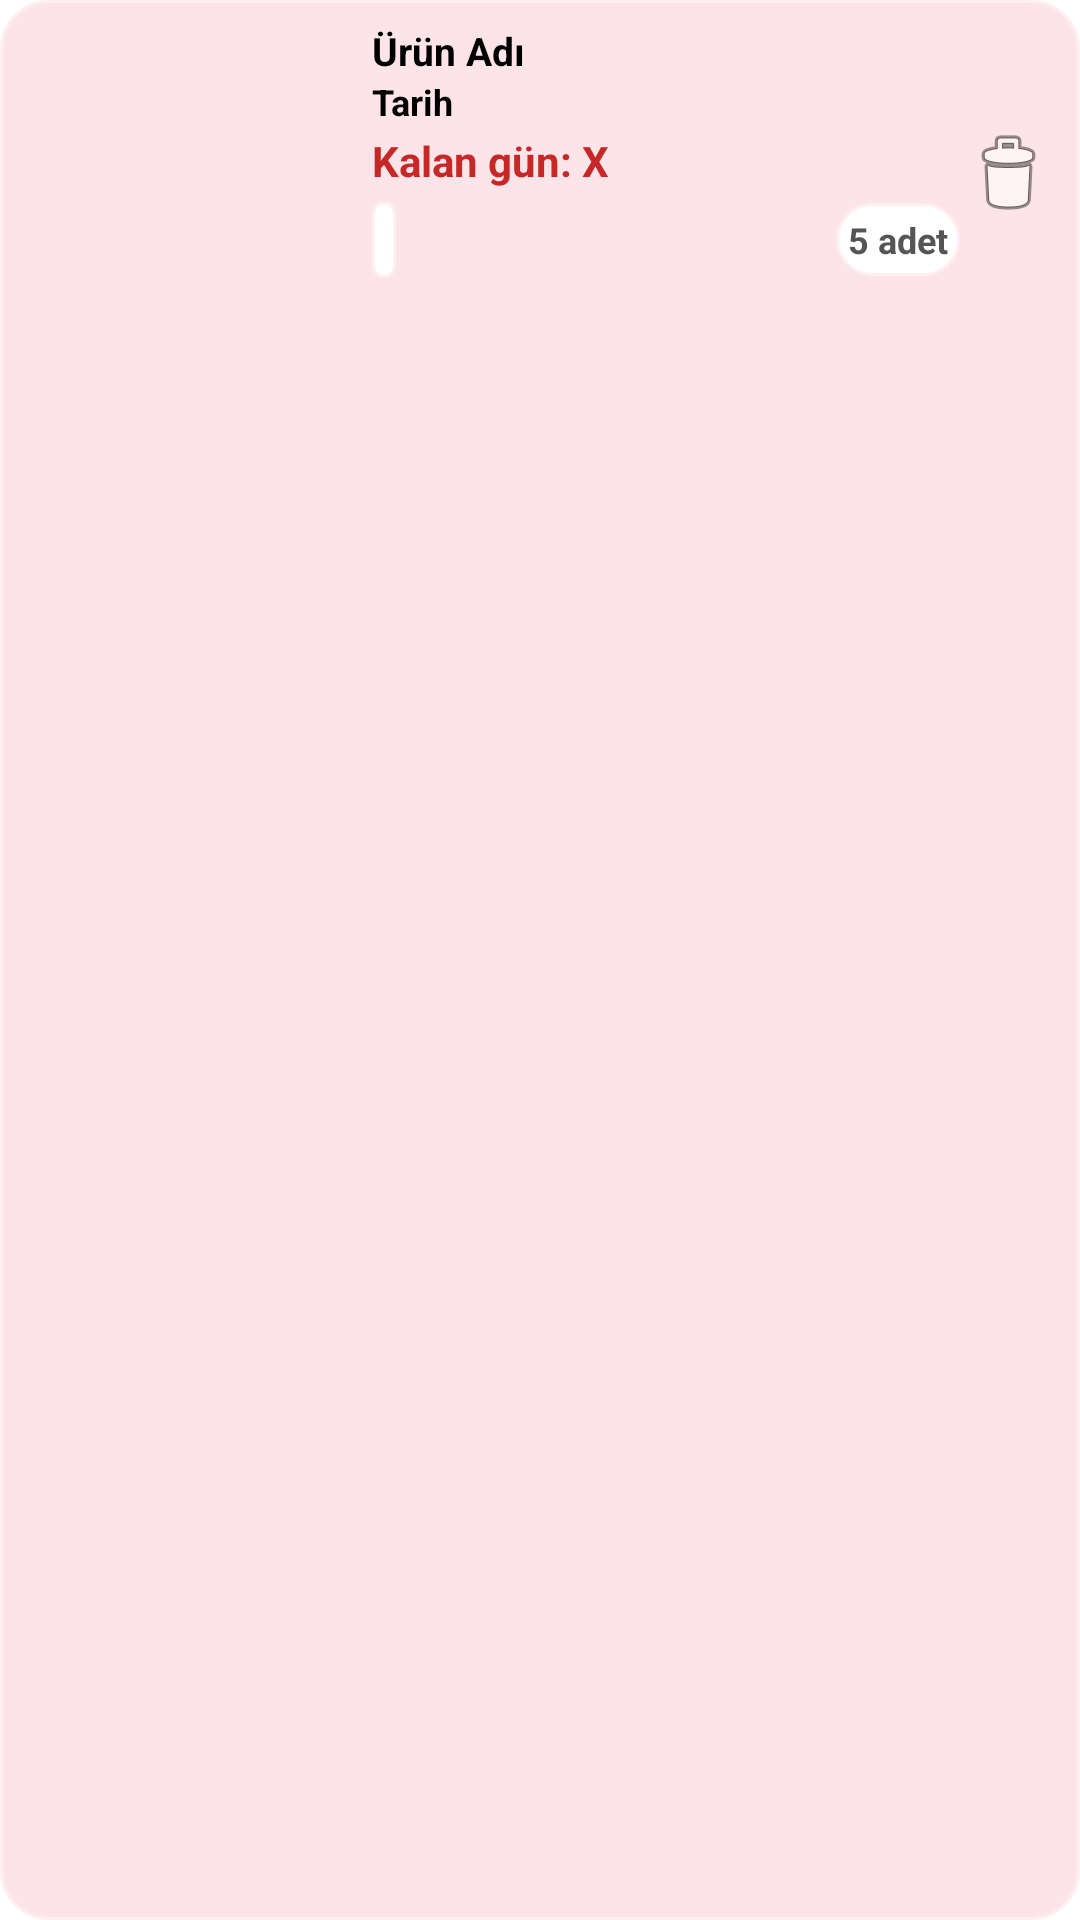

Where to tap for icons on this 1080×1920 app screen, as point (x, y):
Sil: point (1008, 172)
